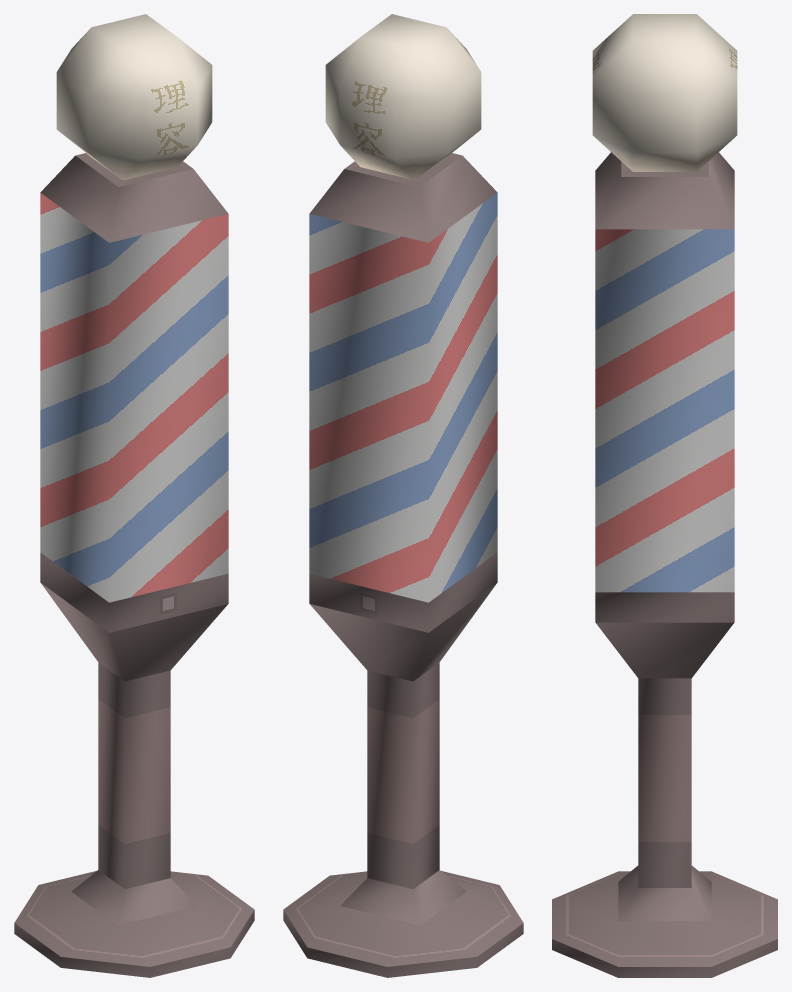
File: 001e_Barber_s_Pole.glb
The picture shows the model from 3 angles, left to right: view 1: azimuth 30°, elevation 25°; view 2: azimuth 150°, elevation 25°; view 3: azimuth 270°, elevation 25°; orthographic projection.
Parts seen in each view (by area): view 1: part_0, part_1; view 2: part_0, part_1; view 3: part_0, part_1.
Boxes of the visible parts, x1,y1,x2,y2 form: part_0: (14, 14, 254, 977); part_1: (40, 193, 228, 602); part_0: (283, 14, 523, 977); part_1: (309, 193, 497, 602); part_0: (552, 14, 777, 977); part_1: (595, 229, 734, 592).
Size of the model in its own units: 0.4435 by 1.96 by 0.4435.
2 materials, 2 textured.
